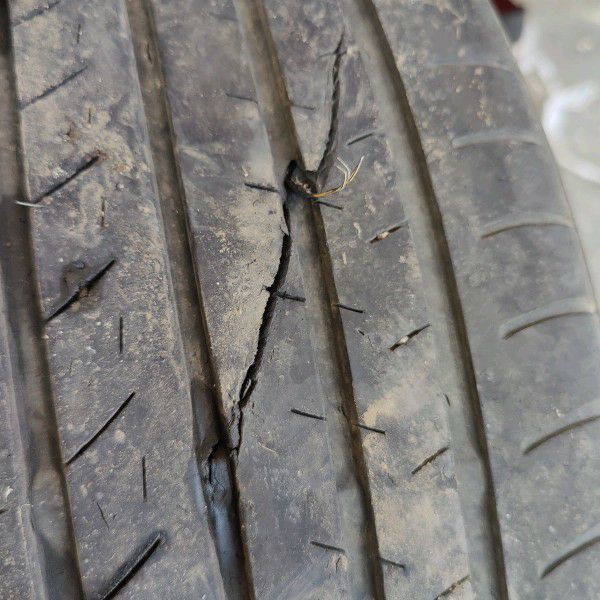tr: (233, 27, 351, 413)
